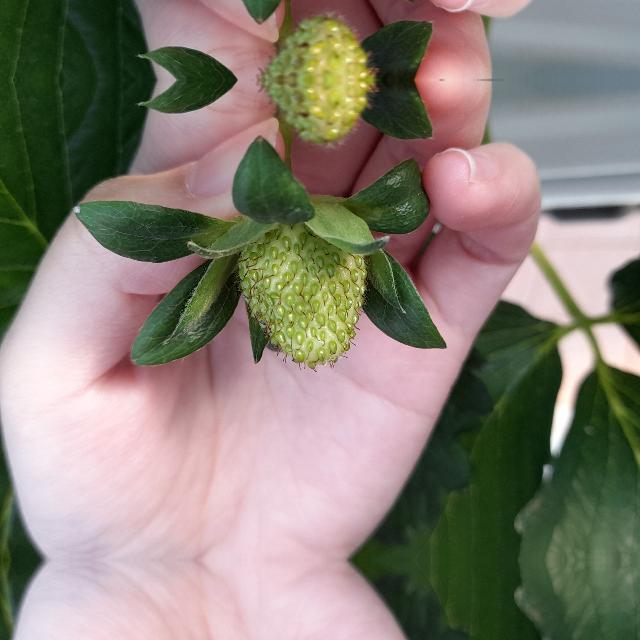Health_25: (232, 218, 368, 368)
